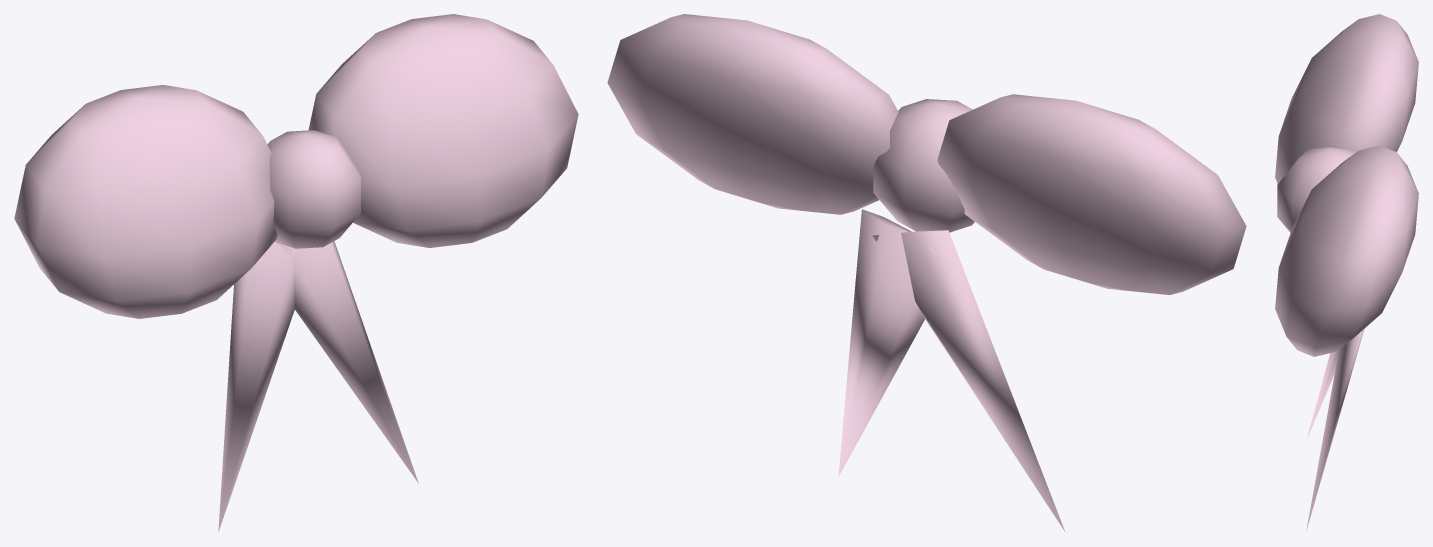
File: mare_tail_bow.gltf
3 renders of one model, left to right at view 1: azimuth 30°, elevation 25°; view 2: azimuth 150°, elevation 25°; view 3: azimuth 270°, elevation 25°, orthographic. The views are drawn at different scales.
Parts seen in each view (by area): view 1: mare_tail_bow; view 2: mare_tail_bow; view 3: mare_tail_bow.
Part boxes in pixels (left/top/right/bottom): mare_tail_bow: left=14, top=14, right=578, bottom=531; mare_tail_bow: left=607, top=14, right=1246, bottom=531; mare_tail_bow: left=1275, top=14, right=1418, bottom=530.
Size of the model in its own units: 0.3487 by 0.2578 by 0.0865.
